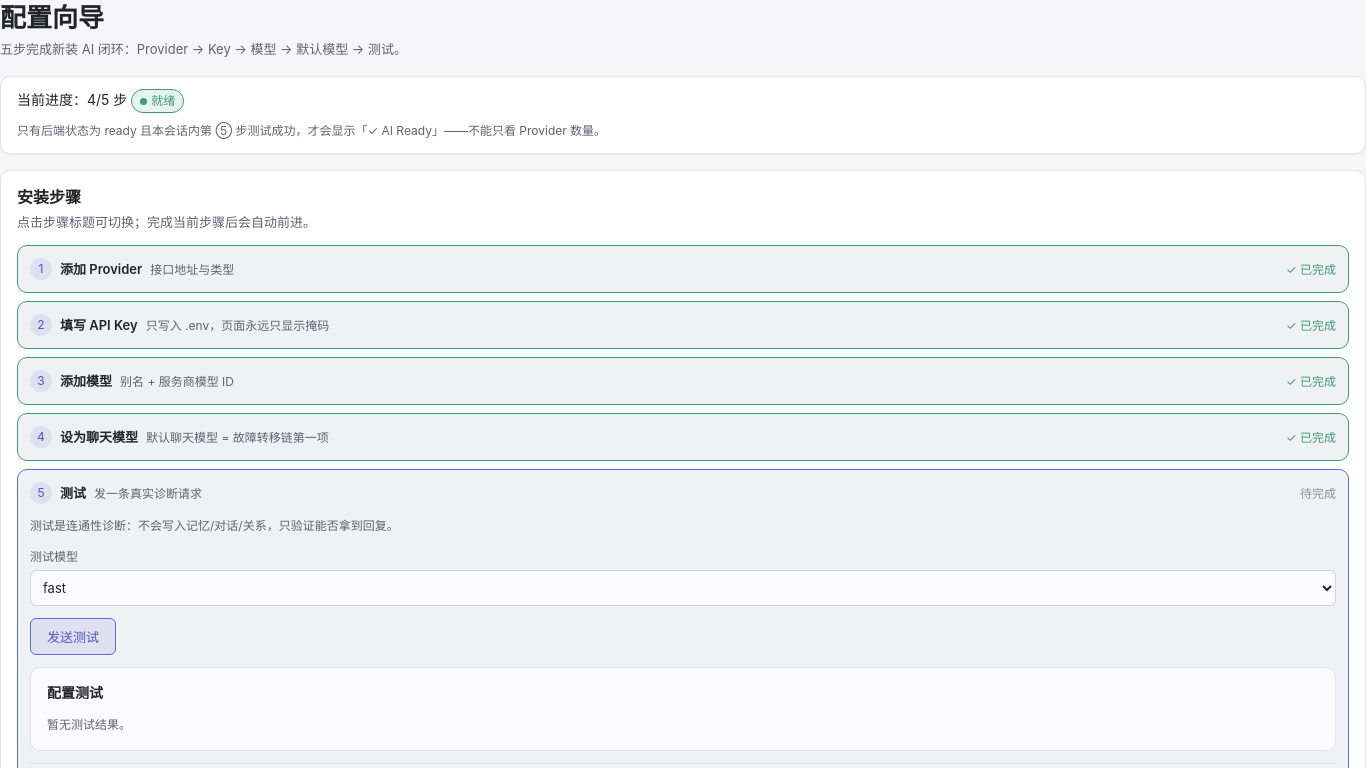
Test: AiSetup › keeps the step incomplete and shows the backend message when the test fails
Click the button with test id "setup-run-test".
click(73, 637)  # box [30, 618, 116, 655]
(page scrolled)
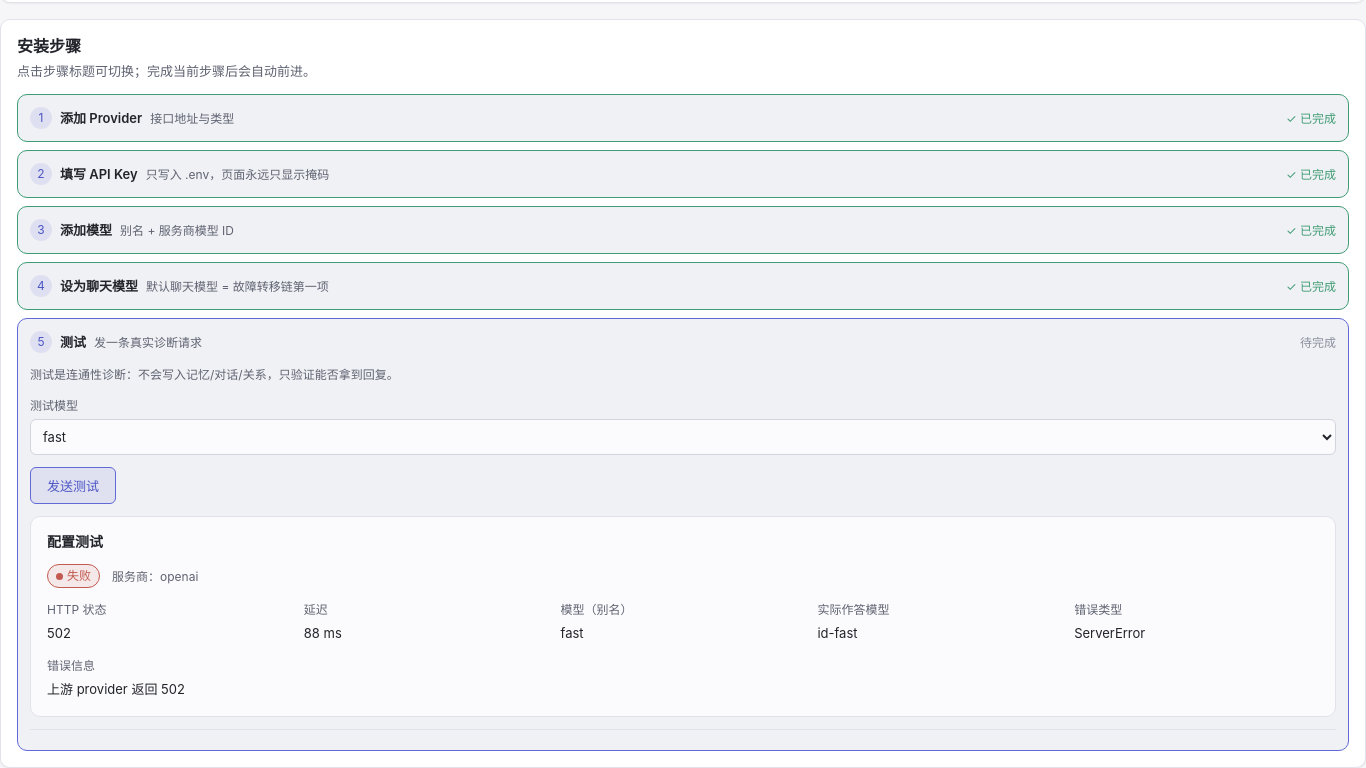
Expected: the list item with test id "setup-step-test" shows "待完成", [18, 319, 1348, 365]
Now the element with test id "test-result-panel" shows "上游 provider 返回 502", box [47, 681, 185, 697]
